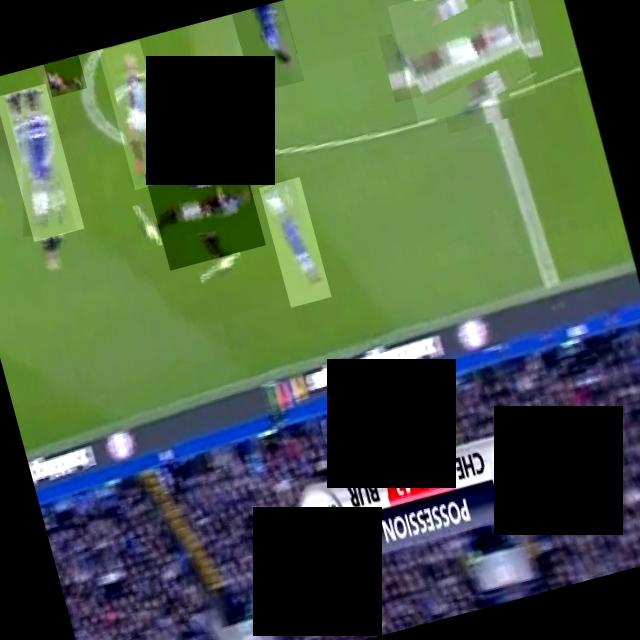soccer-player: (386, 0, 535, 123), (143, 148, 264, 270), (0, 82, 83, 240), (96, 38, 176, 188), (256, 176, 330, 307), (230, 0, 303, 93), (42, 54, 86, 96)
